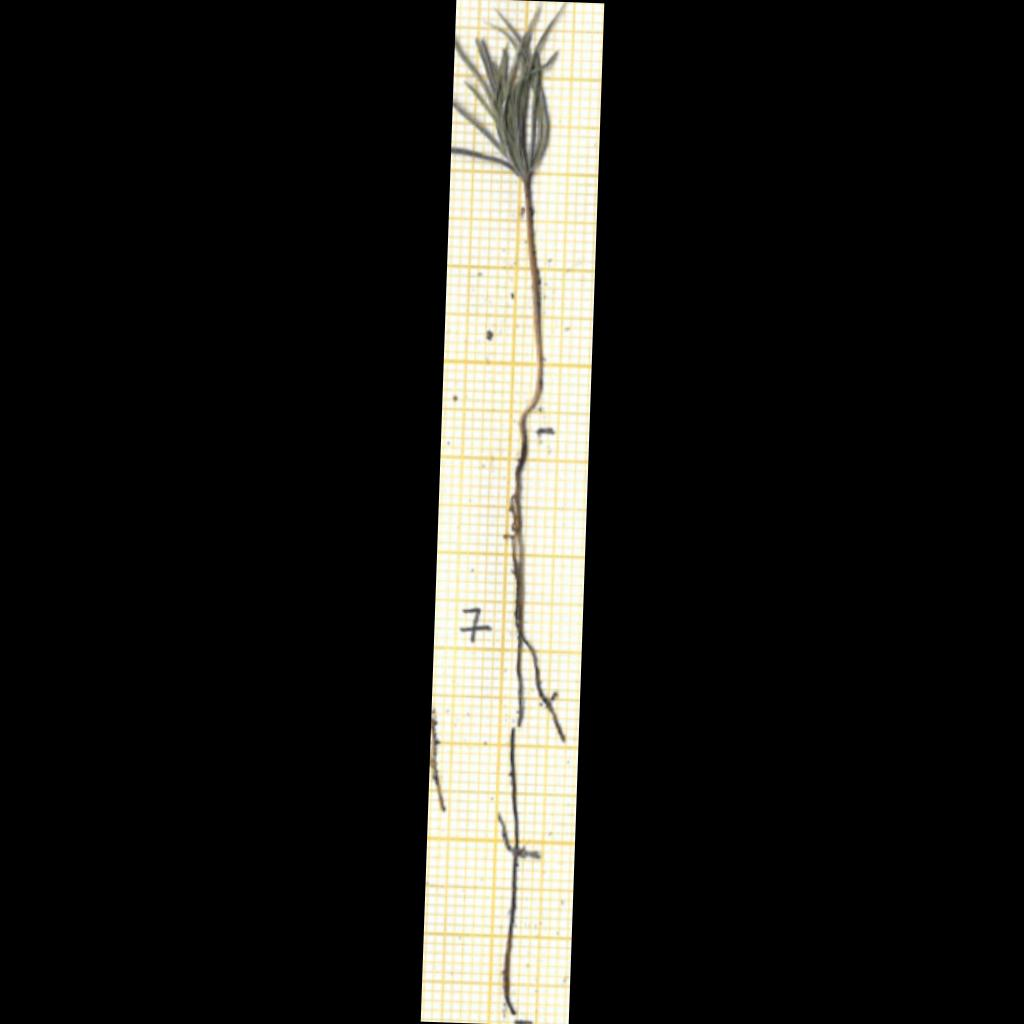flowerPinus: (451, 6, 562, 183)
rootPinus: (511, 427, 565, 742)
stemPinus: (521, 179, 543, 428)
